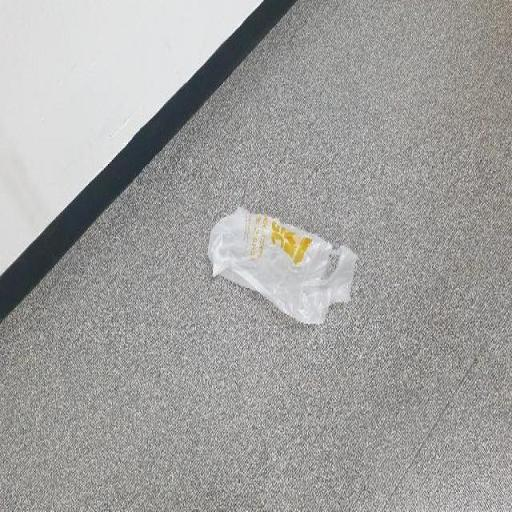polythene: (207, 207, 357, 323)
